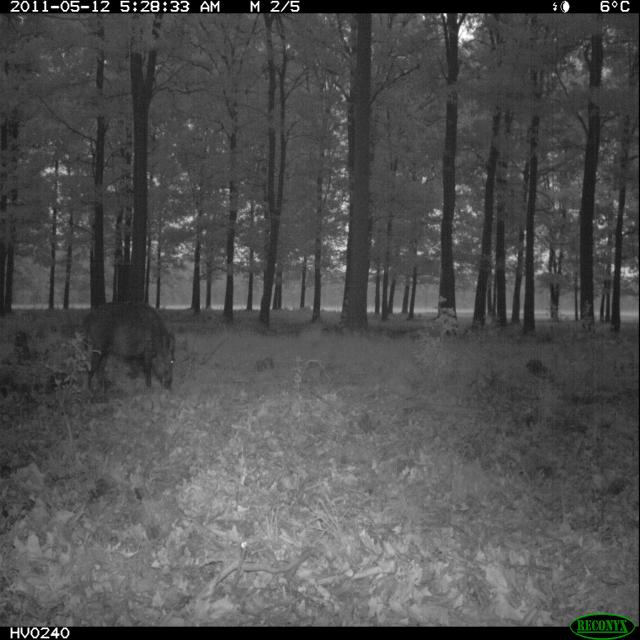boar: (66, 296, 197, 414)
